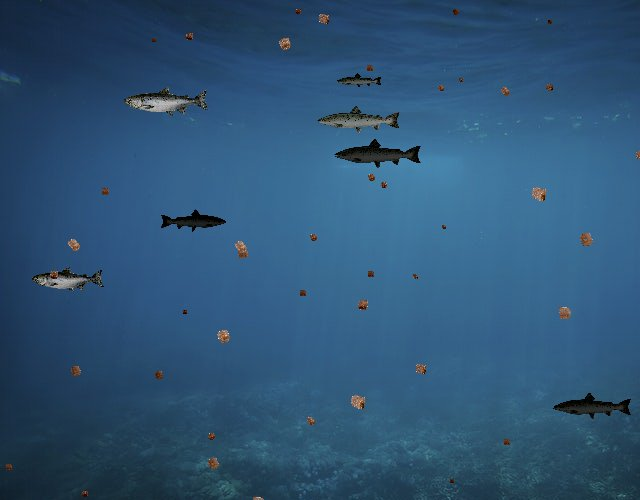Fish: (334, 138, 424, 170), (316, 104, 402, 135), (124, 86, 210, 117), (553, 392, 634, 421), (32, 266, 105, 292), (160, 208, 228, 233), (337, 73, 384, 90)
Pellet: (312, 8, 335, 31), (495, 81, 515, 101), (181, 28, 198, 45), (363, 267, 378, 281), (456, 74, 466, 84)
